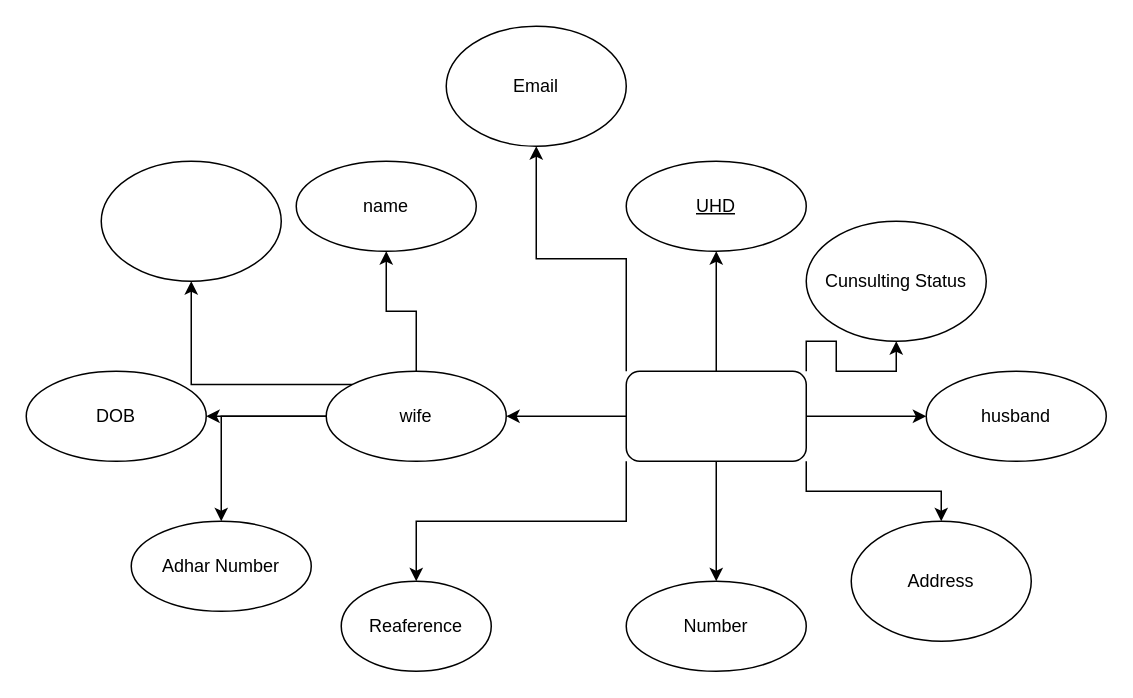
This 1133x698 diagram has some shape labels left out. The centre of each missing label's shape, as x and y in pixels:
"Age" belongs at point 190,220.
"patinet reagistration" belongs at point 715,415.
